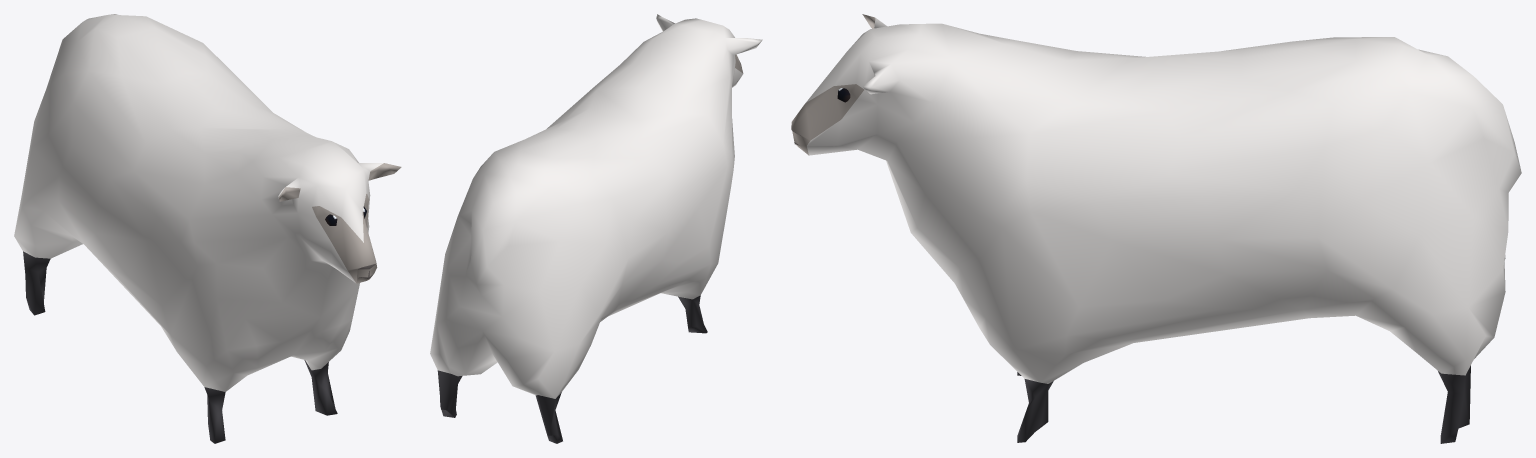
The model's file is Sheep.glb.
3 views of the same model, side by side, from view 1: azimuth 30°, elevation 25°; view 2: azimuth 150°, elevation 25°; view 3: azimuth 270°, elevation 25° (orthographic). The views are drawn at different scales.
Parts seen in each view (by area): view 1: Sheep; view 2: Sheep; view 3: Sheep.
Boxes of the visible parts, box(x1,y1,x2,y2) form: Sheep: box(14, 14, 401, 443); Sheep: box(430, 14, 762, 443); Sheep: box(791, 14, 1521, 443).
Size of what is drawn, in the model's own units: 0.8045 by 1.23 by 2.16.
1 material, 1 textured.
